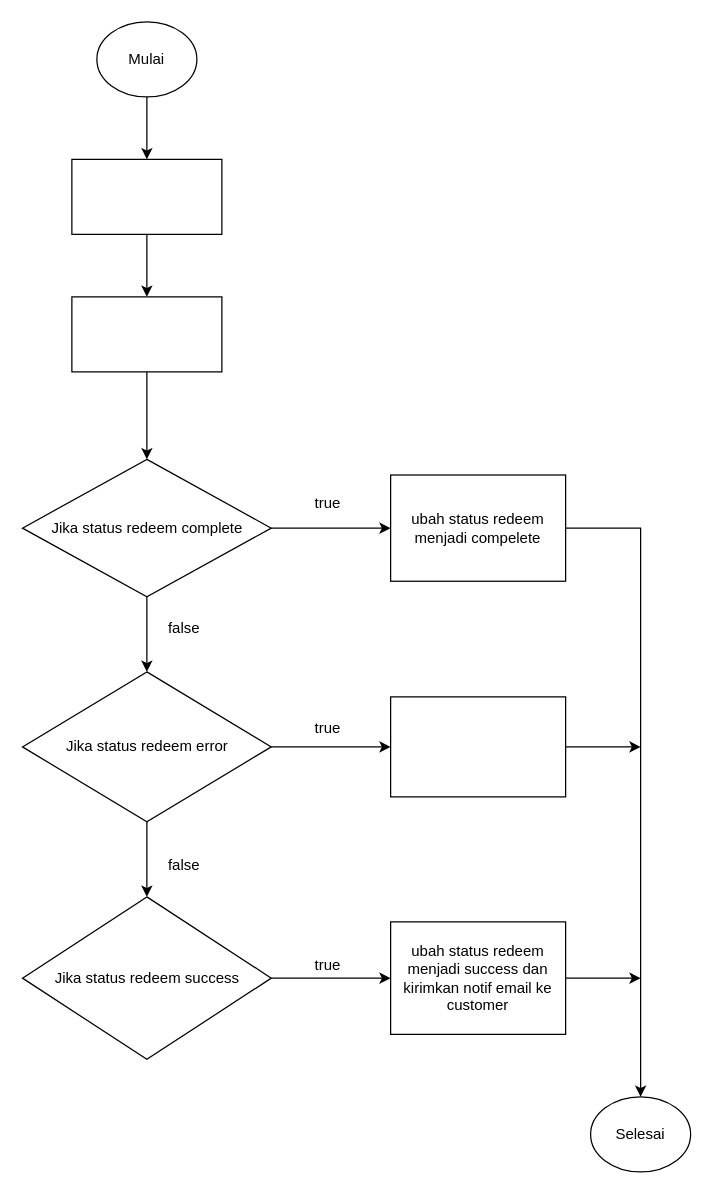
Image size: 713x1194. Some labels were removed from this diagram. The box of each missing label's shape, as (x1, y1, x2, y2) in pixels:
Ambil data request redeem user: (71, 158, 222, 234)
Periksa status redeem dengan aplikasi lain: (71, 296, 222, 372)
ubah status redeem menjadi error: (389, 696, 566, 797)
